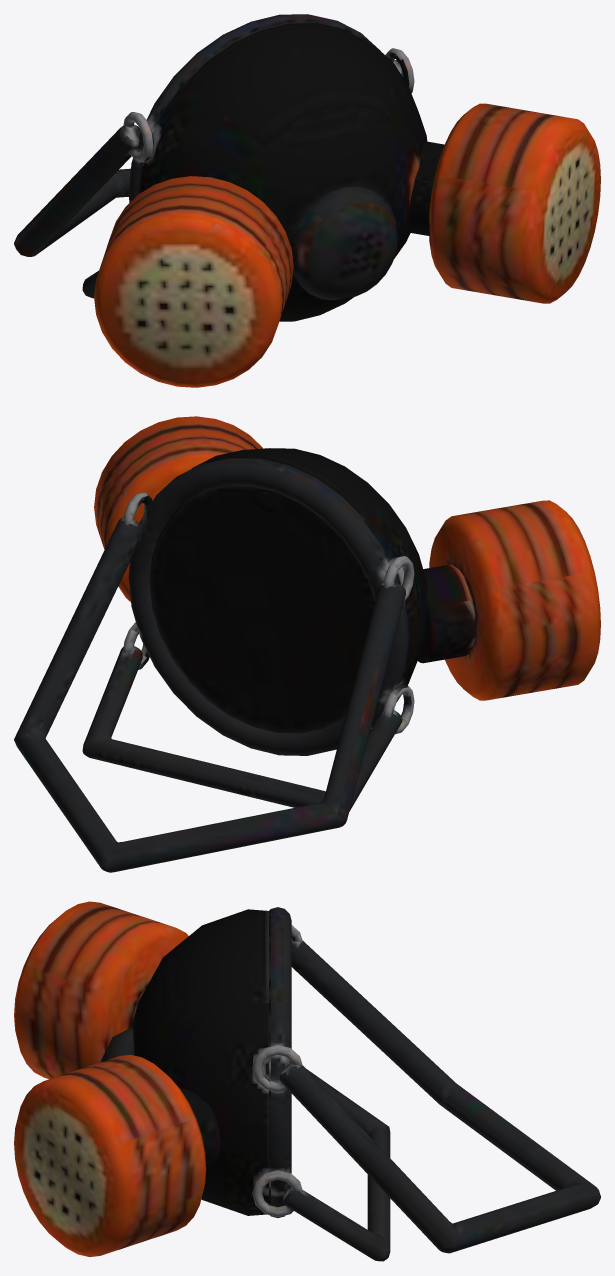
The model's file is rebreather.glb.
The picture shows the model from 3 angles, top to bottom: view 1: azimuth 30°, elevation 25°; view 2: azimuth 150°, elevation 25°; view 3: azimuth 270°, elevation 25°; orthographic projection. The views are drawn at different scales.
Visible parts, largest first — view 1: rebreather; view 2: rebreather; view 3: rebreather.
Part boxes in pixels (box(x1,y1,x2,y2)): rebreather: box(14, 14, 600, 387); rebreather: box(14, 416, 600, 872); rebreather: box(14, 901, 600, 1261).
Bounding box in the file's own units: 0.2468 × 0.1377 × 0.2555.
1 material, 1 textured.
